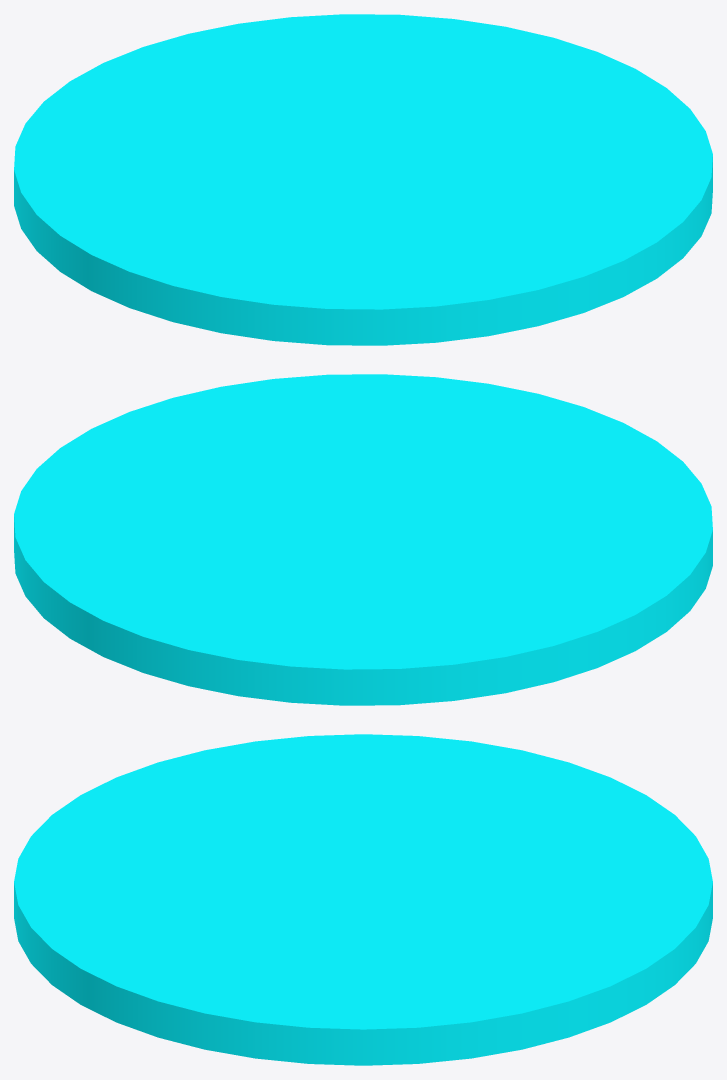
Rendered from pad-00e5ff.glb.
The picture shows the model from 3 angles, top to bottom: view 1: azimuth 30°, elevation 25°; view 2: azimuth 150°, elevation 25°; view 3: azimuth 270°, elevation 25°; orthographic projection.
Parts seen in each view (by area): view 1: plat; view 2: plat; view 3: plat.
Boxes of the visible parts, bbox=[...] form: plat: bbox=[14, 14, 712, 345]; plat: bbox=[14, 374, 712, 705]; plat: bbox=[14, 734, 712, 1065].
Bounding box in the file's own units: 1.4 × 0.08 × 1.4.
1 material, 1 textured.
